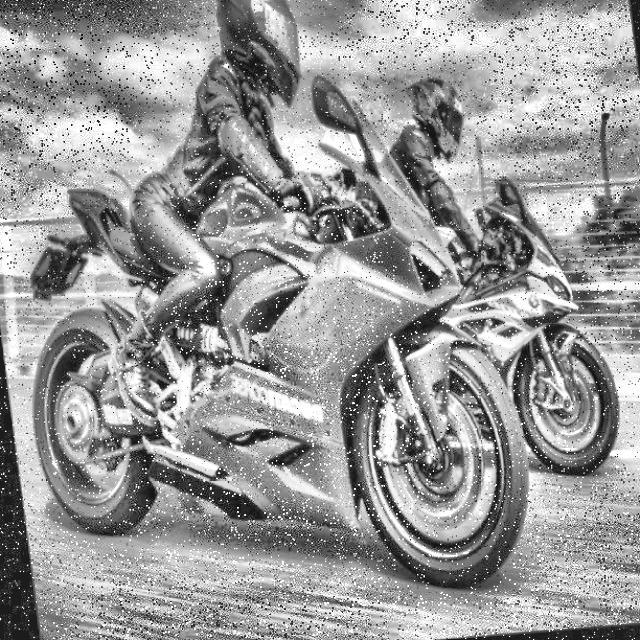Helmet: (206, 0, 310, 121), (397, 69, 473, 172)
